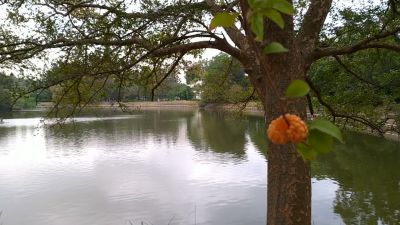eggs: (266, 112, 309, 146)
